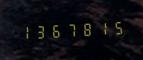eight: (77, 19, 91, 38)
five: (107, 18, 121, 37)
one: (17, 22, 31, 42), (92, 18, 106, 38)
seven: (62, 20, 76, 39)
six: (47, 21, 61, 40)
three: (32, 22, 46, 41)
